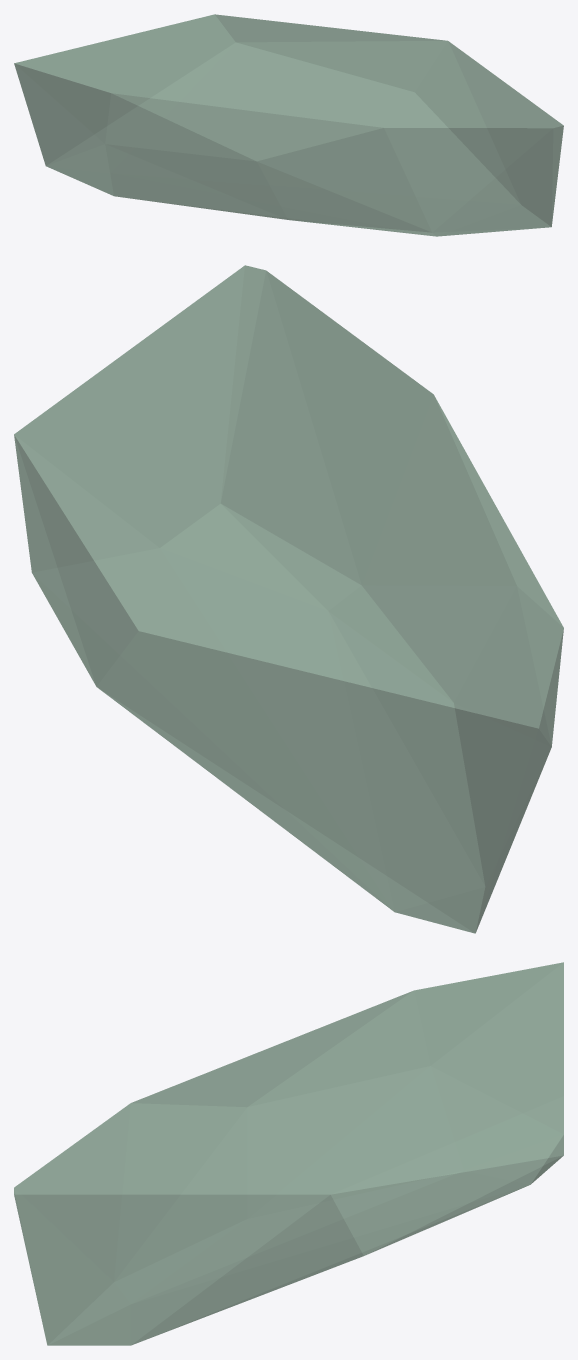
The picture shows the model from 3 angles, top to bottom: view 1: azimuth 30°, elevation 25°; view 2: azimuth 150°, elevation 25°; view 3: azimuth 270°, elevation 25°; orthographic projection. The views are drawn at different scales.
Visible parts, largest first — view 1: Shape_IndexedFaceSet.017_Shape_IndexedFaceSet.9103; view 2: Shape_IndexedFaceSet.017_Shape_IndexedFaceSet.9103; view 3: Shape_IndexedFaceSet.017_Shape_IndexedFaceSet.9103.
Part boxes in pixels (x1,y1,x2,y2): Shape_IndexedFaceSet.017_Shape_IndexedFaceSet.9103: (14, 14, 563, 236); Shape_IndexedFaceSet.017_Shape_IndexedFaceSet.9103: (14, 265, 563, 933); Shape_IndexedFaceSet.017_Shape_IndexedFaceSet.9103: (14, 962, 563, 1345).
Bounding box in the file's own units: 0.0989 × 0.033 × 0.0989.
